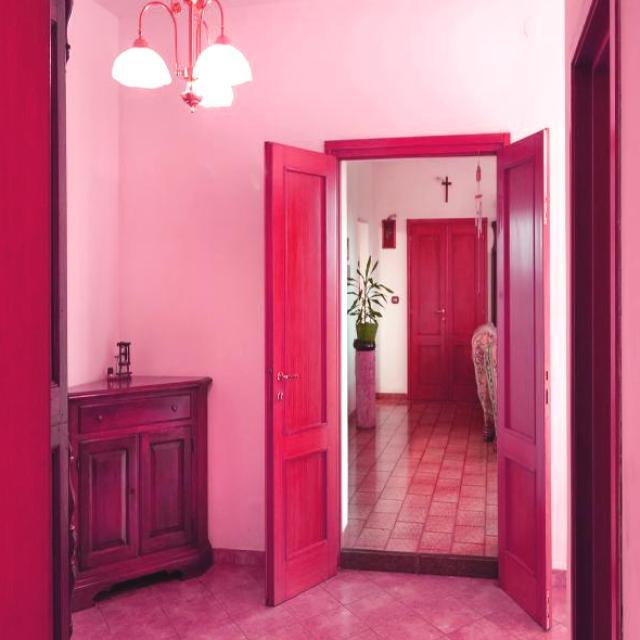Door: (258, 138, 343, 609), (492, 124, 552, 633)
